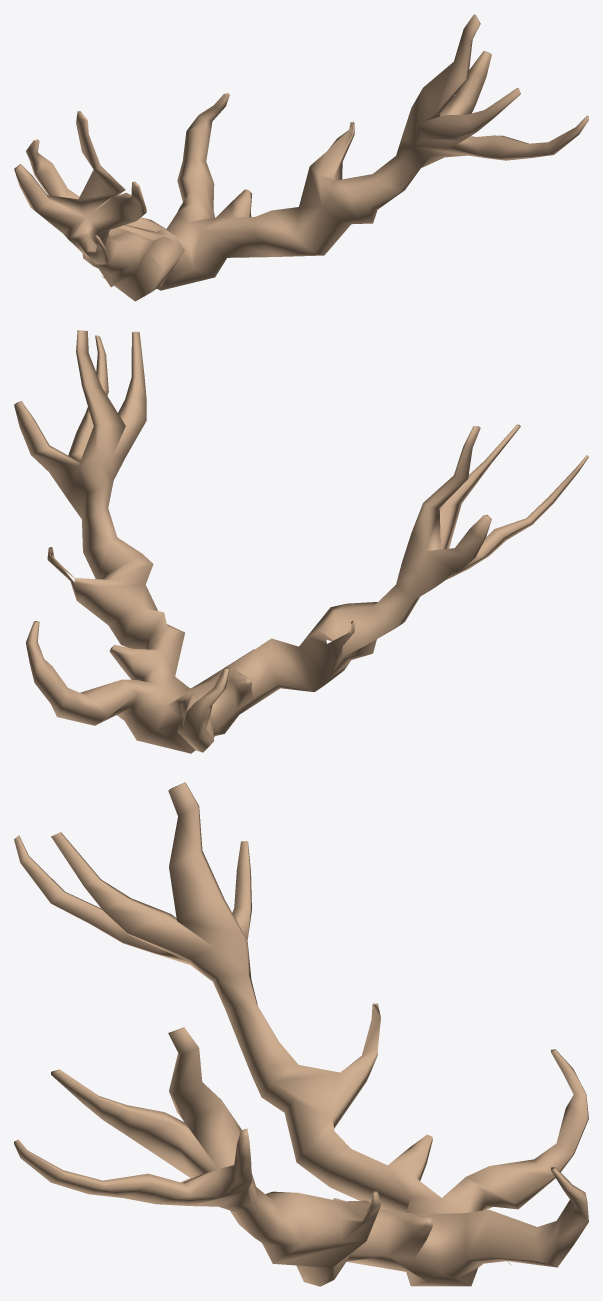
Rendered from nature-antler-238.glb.
3 views of the same model, one above another, from view 1: azimuth 30°, elevation 25°; view 2: azimuth 150°, elevation 25°; view 3: azimuth 270°, elevation 25° (orthographic). The views are drawn at different scales.
Parts seen in each view (by area): view 1: Antlers.1; view 2: Antlers.1; view 3: Antlers.1.
Part boxes in pixels (x1=…): Antlers.1: x1=14, y1=14, x2=588, y2=301; Antlers.1: x1=14, y1=330, x2=588, y2=753; Antlers.1: x1=14, y1=782, x2=588, y2=1286.
Bounding box in the file's own units: 213 × 118 × 169.
